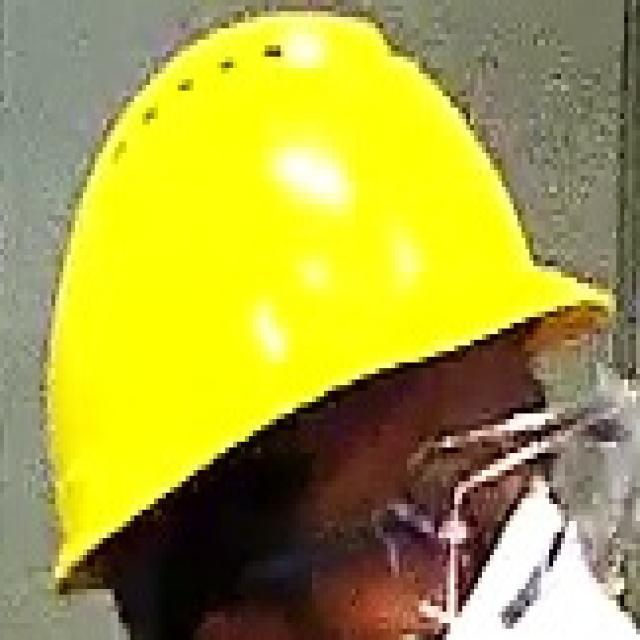yellow helmet: (38, 13, 618, 607)
